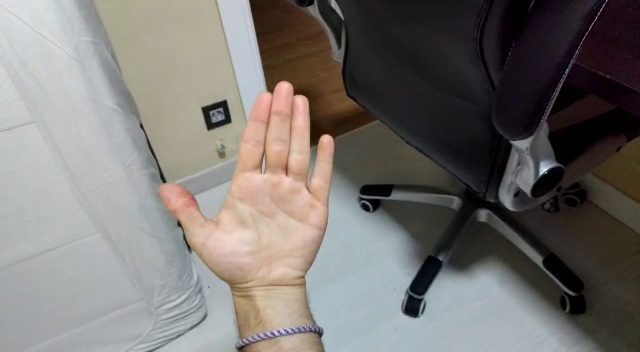Palm: (159, 78, 336, 302)
